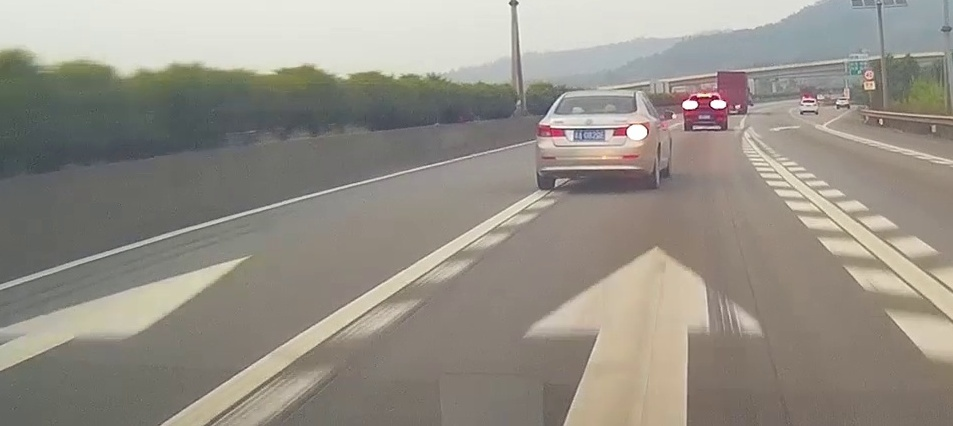L_light: (536, 124, 566, 137), (683, 102, 696, 108)
R_light: (613, 122, 649, 135), (714, 102, 725, 107)
T_light: (591, 96, 606, 98), (699, 94, 709, 97)
day-brake: (682, 92, 727, 131)
day-right: (535, 89, 655, 189)
